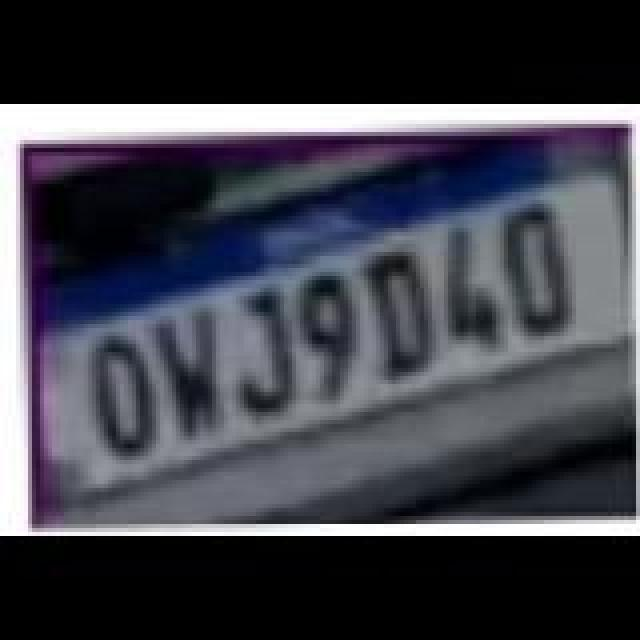4: (440, 226, 504, 350)
9: (298, 276, 366, 404)
D: (364, 252, 444, 380), (504, 206, 576, 338)
J: (234, 290, 302, 422)
O: (94, 338, 162, 462)
W: (156, 308, 228, 444)
